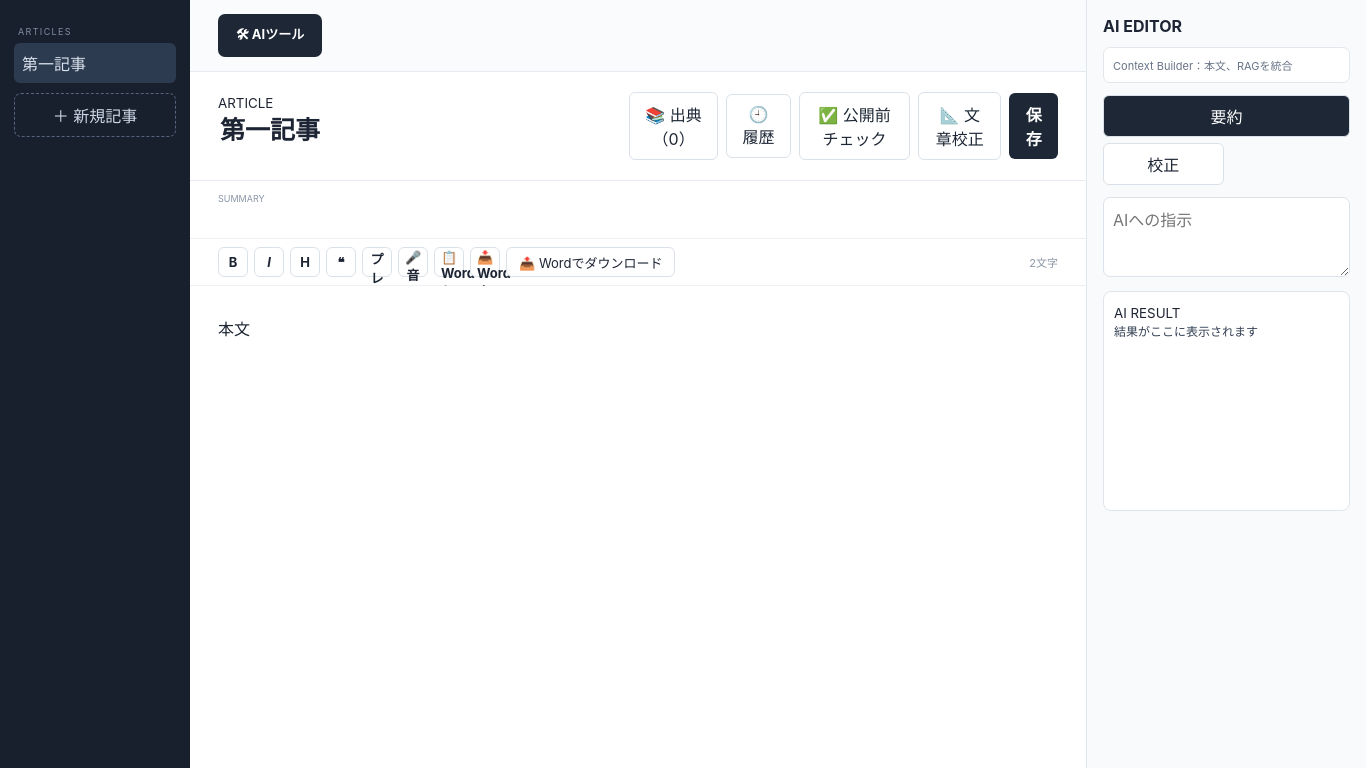
it: WritePanel › silently retries once on a transient proofread failure instead of erroring
Click the button "📐 文章校正" at coordinates (960, 126), box x1=918 y1=92 x2=1001 y2=160
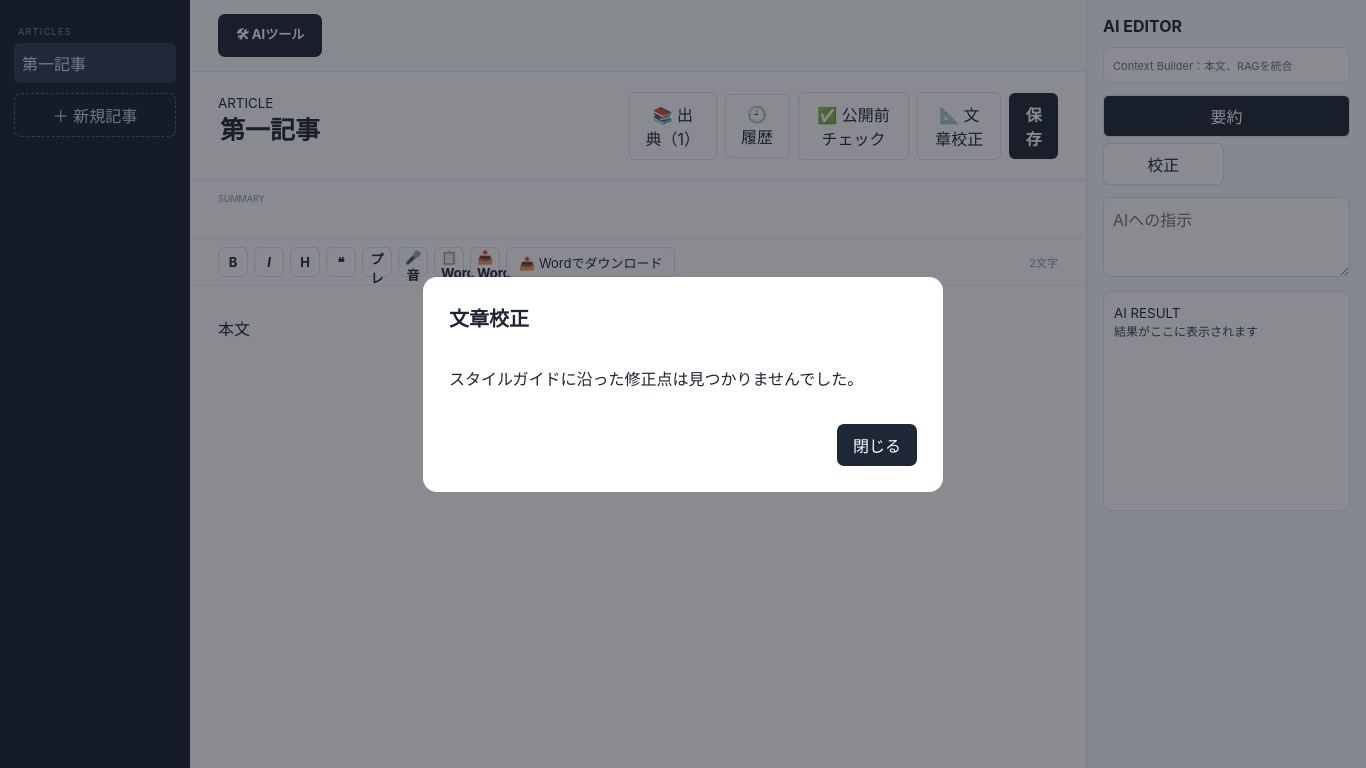
Now the text "スタイルガイドに沿った修正点は見つかりませんでした。" is shown, box x1=449 y1=366 x2=917 y2=390
